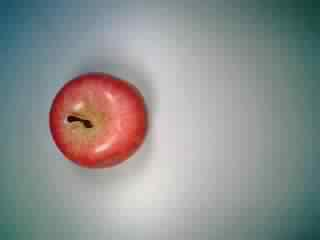apple: (45, 68, 150, 172)
